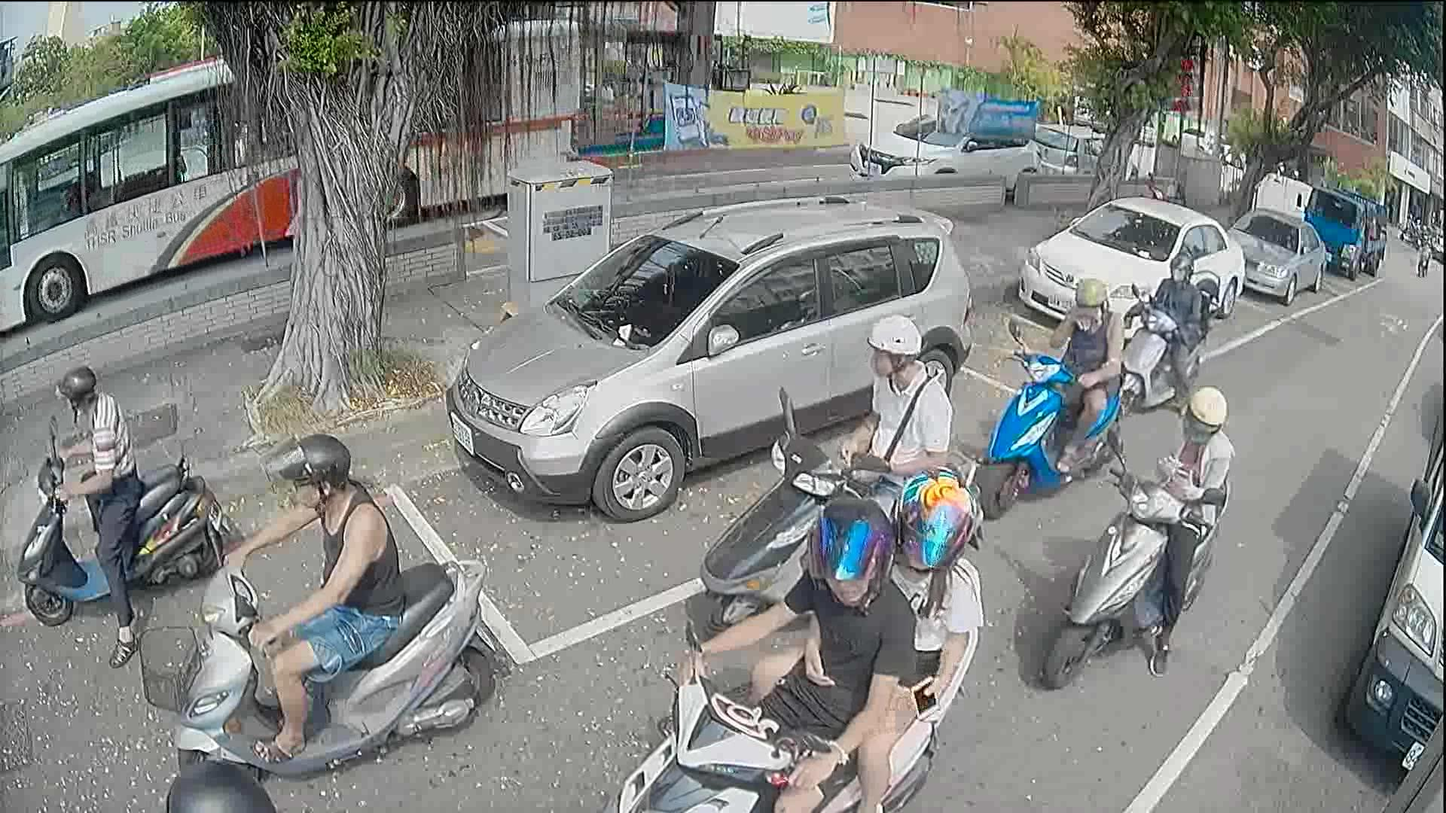person: (660, 489, 911, 812), (769, 457, 982, 812), (214, 423, 403, 769), (44, 359, 145, 658), (1130, 376, 1228, 676), (845, 313, 951, 505), (1022, 263, 1118, 474), (1146, 254, 1211, 403), (163, 742, 276, 810)
